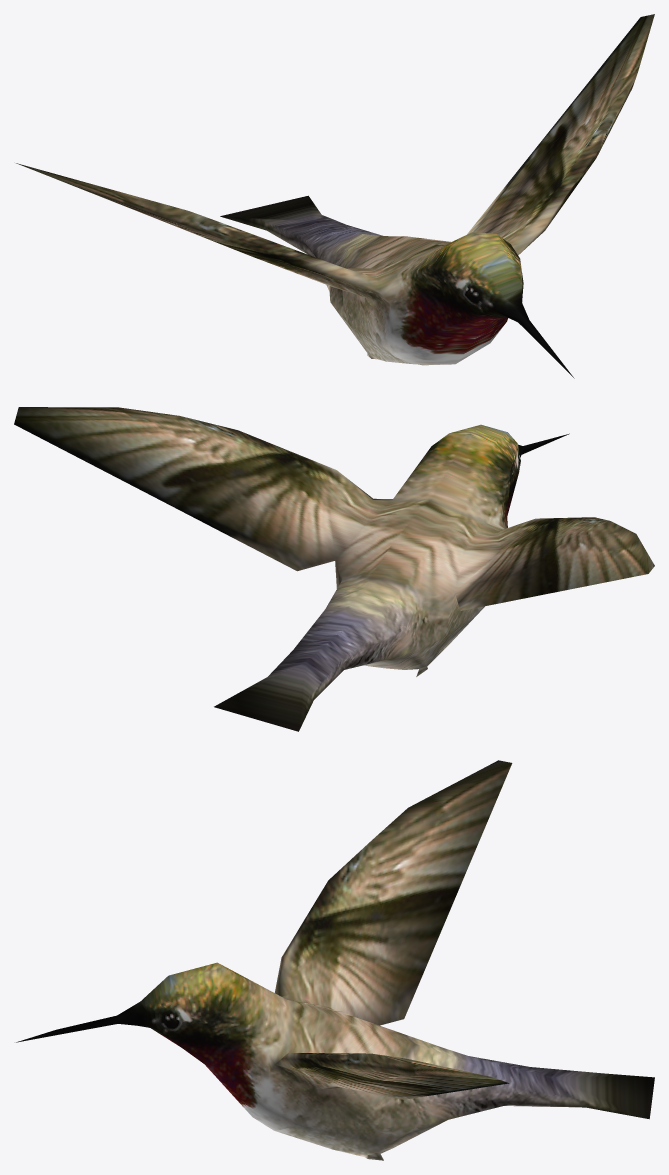
Rendered from HumBird.fbx.
3 renders of one model, top to bottom at view 1: azimuth 30°, elevation 25°; view 2: azimuth 150°, elevation 25°; view 3: azimuth 270°, elevation 25°, orthographic. The views are drawn at different scales.
Parts seen in each view (by area): view 1: humbird; view 2: humbird; view 3: humbird.
Boxes of the visible parts, x1,y1,x2,y2 form: humbird: (16,14,654,378); humbird: (14,407,654,731); humbird: (16,760,654,1160).
Size of the model in its own units: 0.1021 by 0.0342 by 0.0874.
